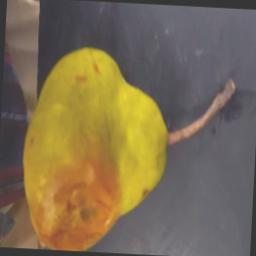Pear Rotten: (14, 40, 242, 256)
